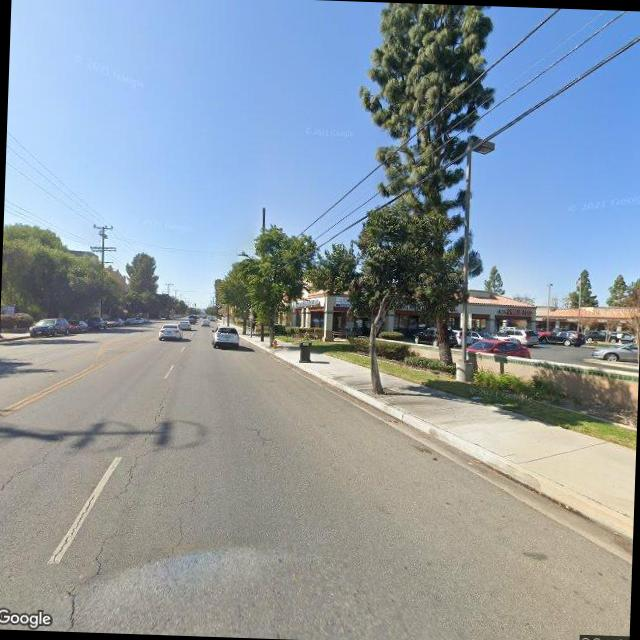pothole: (112, 380, 170, 507), (66, 524, 133, 632), (0, 427, 71, 492), (43, 488, 99, 568)
